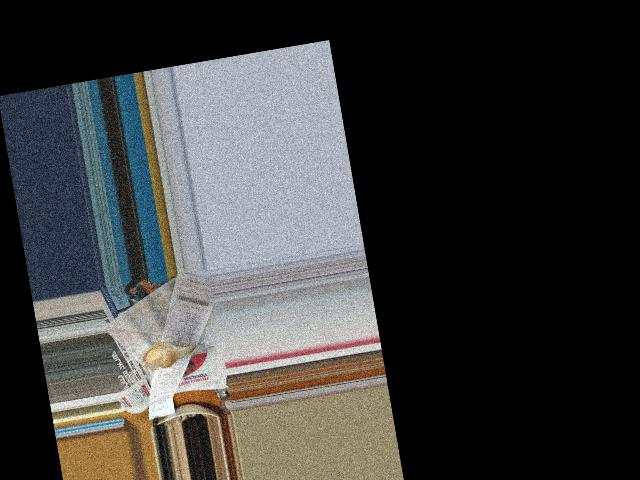onion: (141, 338, 182, 369)
